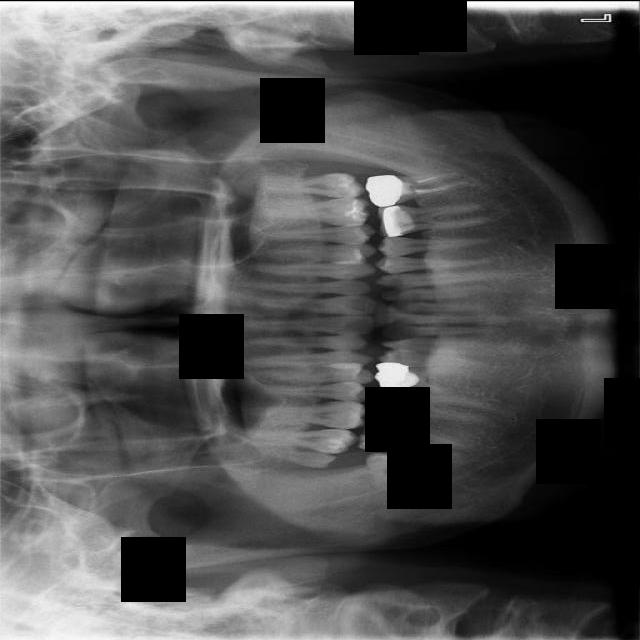3M ESPE Implant: (252, 441, 336, 470)
52: (355, 414, 409, 454), (364, 171, 415, 208), (368, 385, 418, 422), (375, 200, 421, 238), (322, 195, 371, 227), (308, 426, 357, 453), (373, 361, 418, 390)
73: (402, 168, 472, 199), (562, 42, 570, 46)
BioHorizons Implant: (252, 164, 366, 199)
Blue Sky Bio Implant: (364, 161, 473, 209)
Caries: (239, 426, 358, 456)
Implant: (355, 413, 468, 463)
Keystone Dental Implant: (365, 450, 436, 494)
